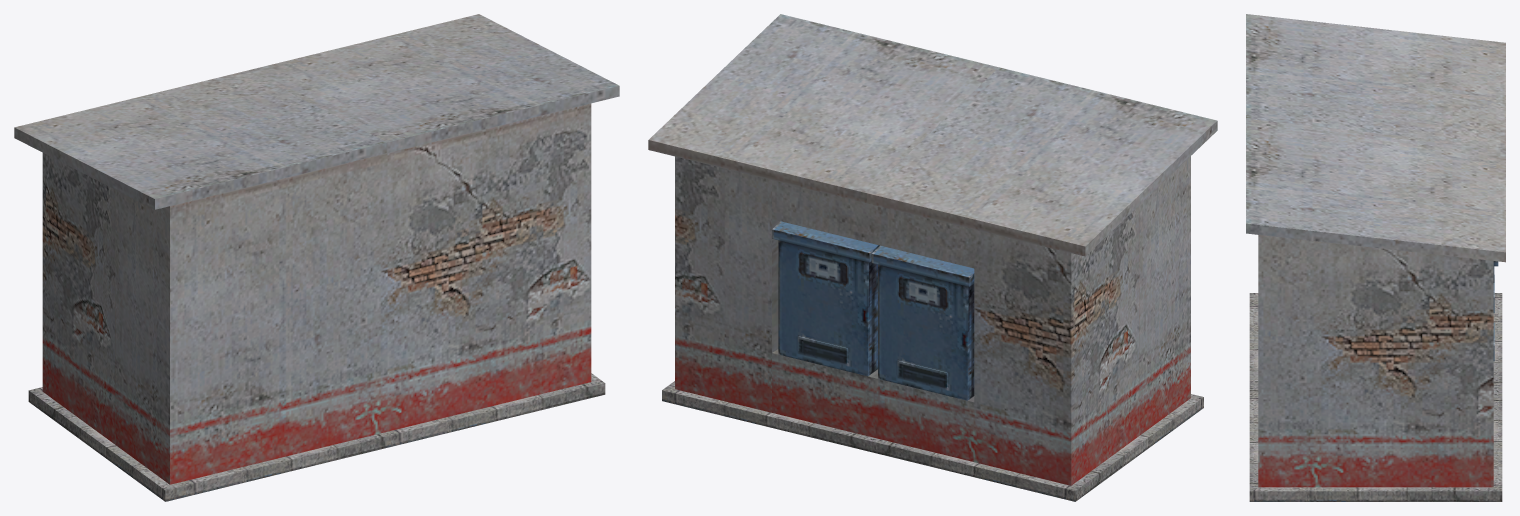
Rendered from Prop_Bdx.glb.
3 renders of one model, left to right at view 1: azimuth 30°, elevation 25°; view 2: azimuth 150°, elevation 25°; view 3: azimuth 270°, elevation 25°, orthographic. The views are drawn at different scales.
Parts seen in each view (by area): view 1: xiutz_bdx; view 2: xiutz_bdx; view 3: xiutz_bdx.
Part boxes in pixels (<box>): xiutz_bdx: <box>14,14,619,501</box>; xiutz_bdx: <box>648,14,1217,501</box>; xiutz_bdx: <box>1246,14,1505,501</box>.
Bounding box in the file's own units: 2.91 × 1.84 × 1.53.
1 material, 1 textured.
